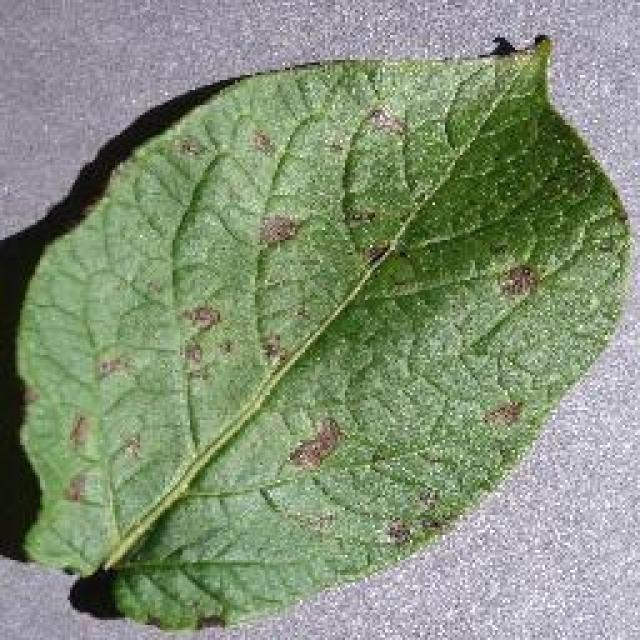early_blight: (8, 30, 638, 632)
